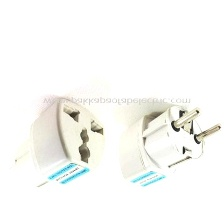three_eye_plug: (5, 94, 109, 198), (116, 96, 224, 190)
